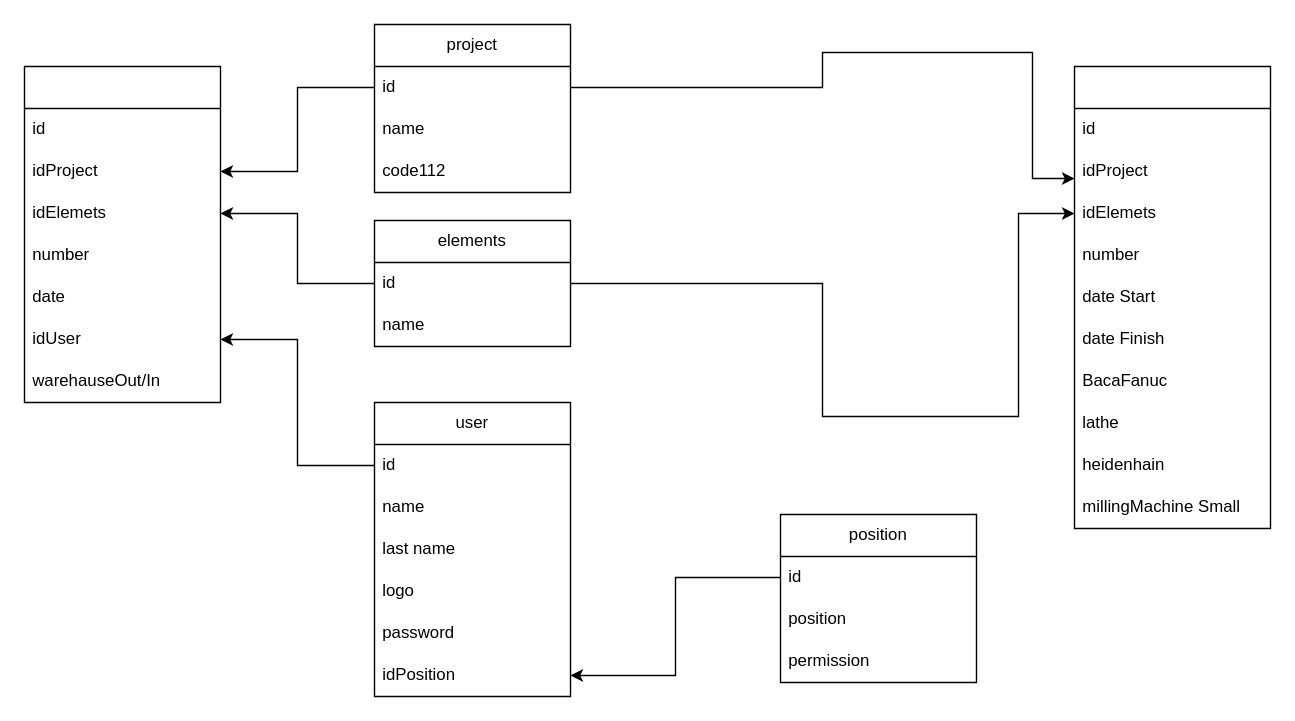
Some shapes in this 1295 by 721 pixel diagram are drawn without their labels. The box of each missing label's shape, as (x1, y1, x2, y2) in pixels:
warehouse: (23, 65, 220, 402)
warehouseWork: (1073, 65, 1270, 528)
